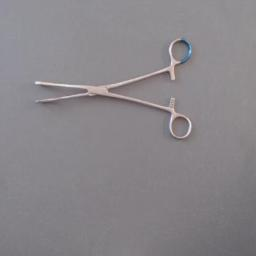Sponge Forceps: (28, 32, 196, 144)
